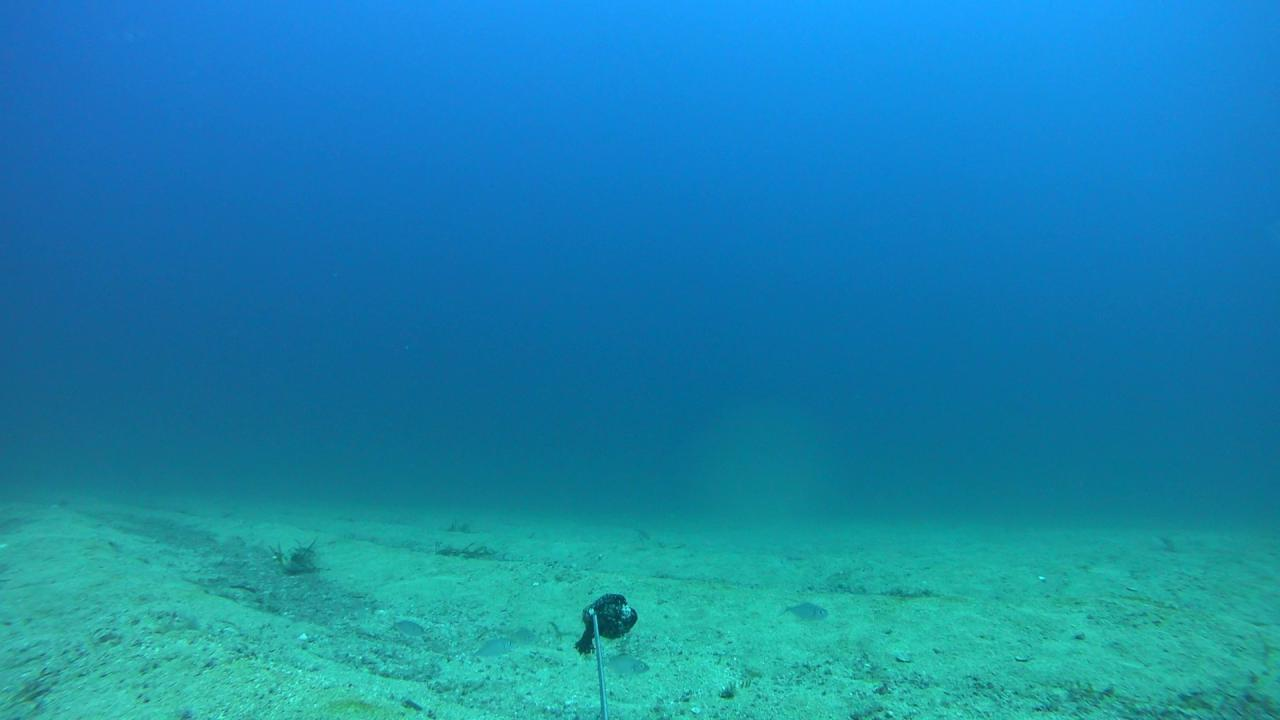pagellus: (595, 653, 655, 679), (779, 598, 828, 624), (465, 641, 520, 660), (390, 622, 427, 637)
